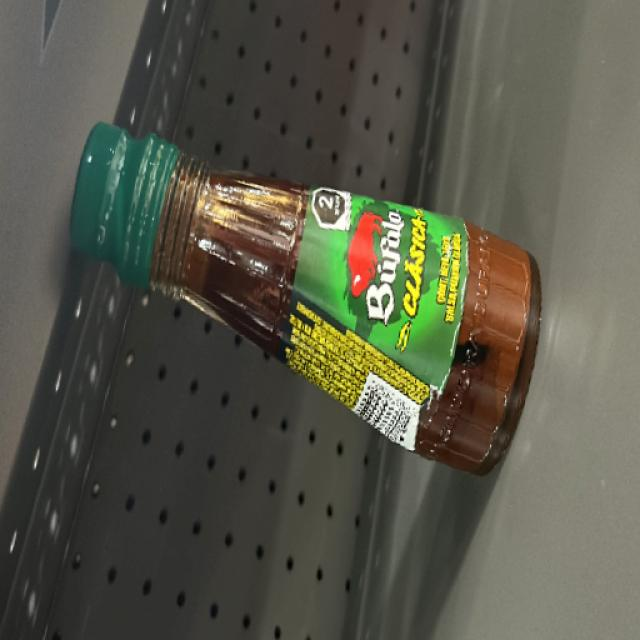salsaBufalo: (78, 177, 544, 418)
